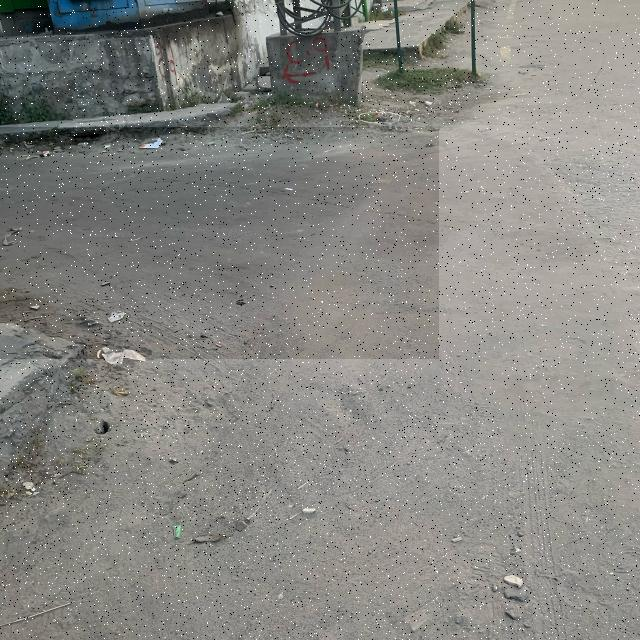left: (0, 127, 439, 359)
